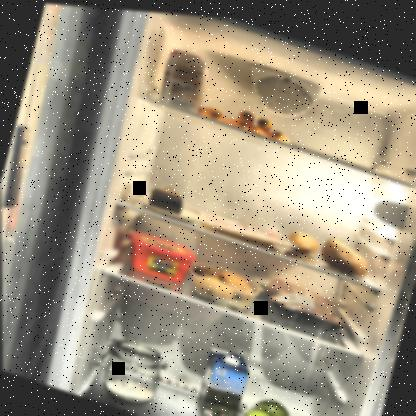apple: (236, 383, 323, 415)
butter: (119, 225, 201, 286)
carrot: (197, 91, 299, 144)
cheese: (145, 177, 191, 216)
chicken: (254, 266, 357, 333)
milk: (191, 339, 256, 415)
potato: (184, 253, 259, 308)
sweet_potato: (314, 228, 378, 280), (284, 223, 322, 254)
